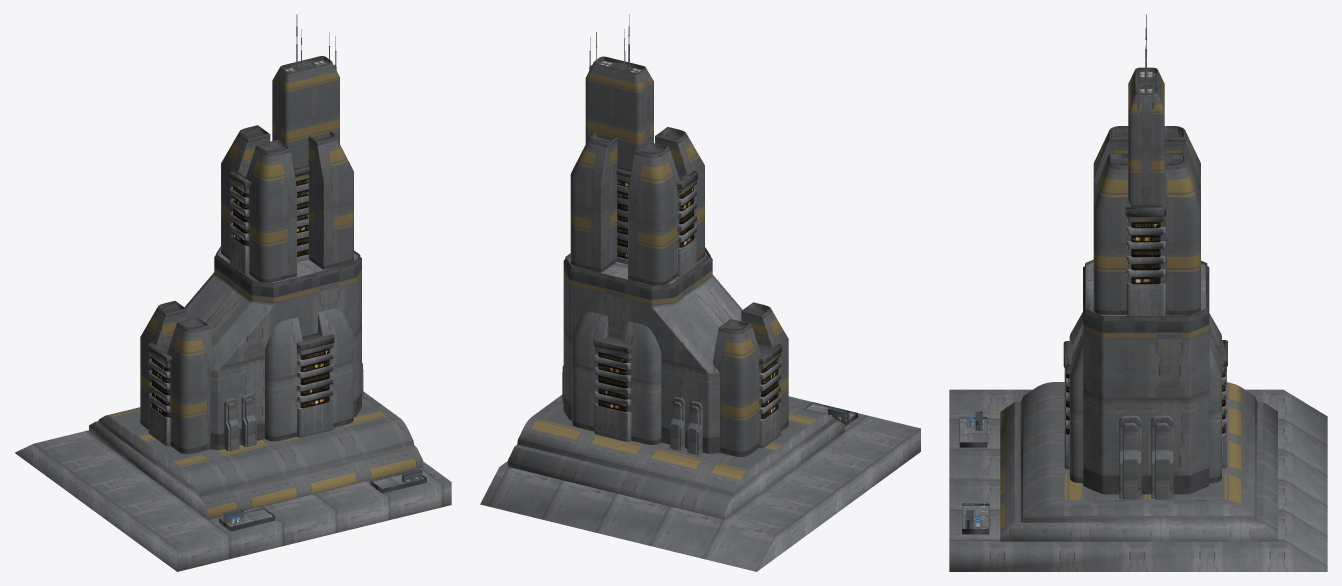
Rendered from CityBlock010.fbx.
3 renders of one model, left to right at view 1: azimuth 30°, elevation 25°; view 2: azimuth 150°, elevation 25°; view 3: azimuth 270°, elevation 25°, orthographic. The views are drawn at different scales.
Visible parts, largest first — view 1: SMCGBlock50_5994.Shape; view 2: SMCGBlock50_5994.Shape; view 3: SMCGBlock50_5994.Shape.
Part boxes in pixels (left/top/right/bottom): SMCGBlock50_5994.Shape: left=15, top=14, right=451, bottom=571; SMCGBlock50_5994.Shape: left=480, top=14, right=920, bottom=571; SMCGBlock50_5994.Shape: left=949, top=14, right=1327, bottom=571.
Bounding box in the file's own units: 721 × 1120 × 741.
